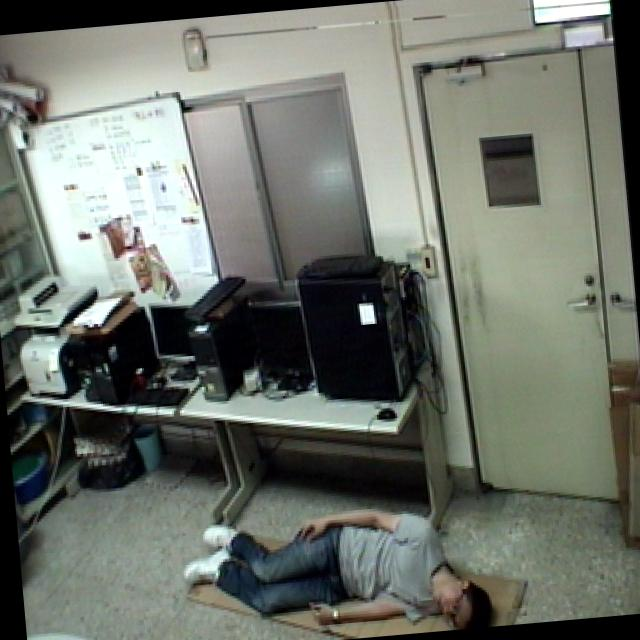lie: (164, 487, 501, 640)
